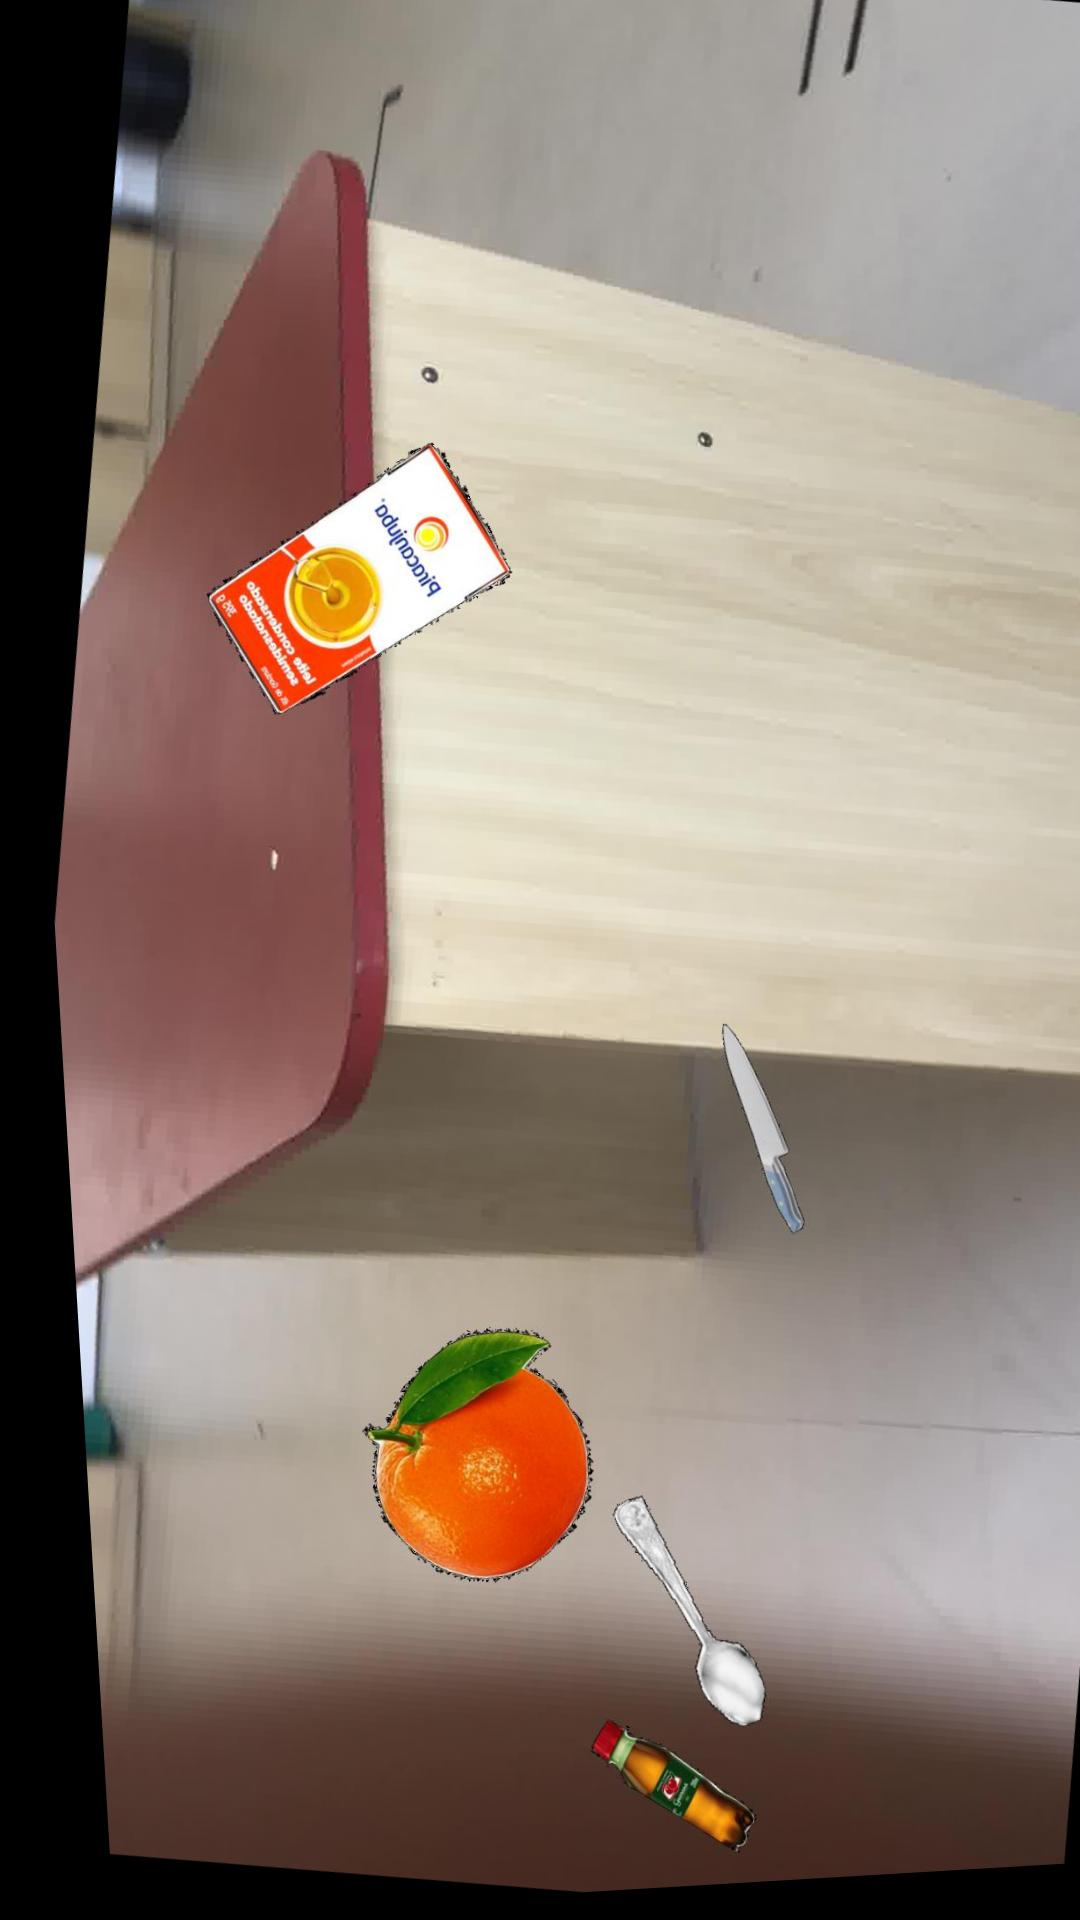guarana: (570, 1727, 735, 1861)
knife: (711, 1034, 790, 1244)
orange: (347, 1335, 576, 1588)
spoon: (595, 1505, 745, 1737)
